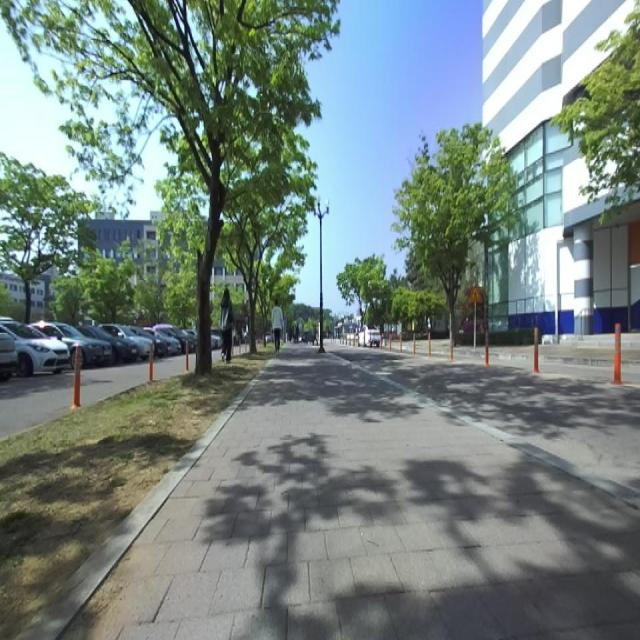sidewalk: (68, 354, 640, 639)
